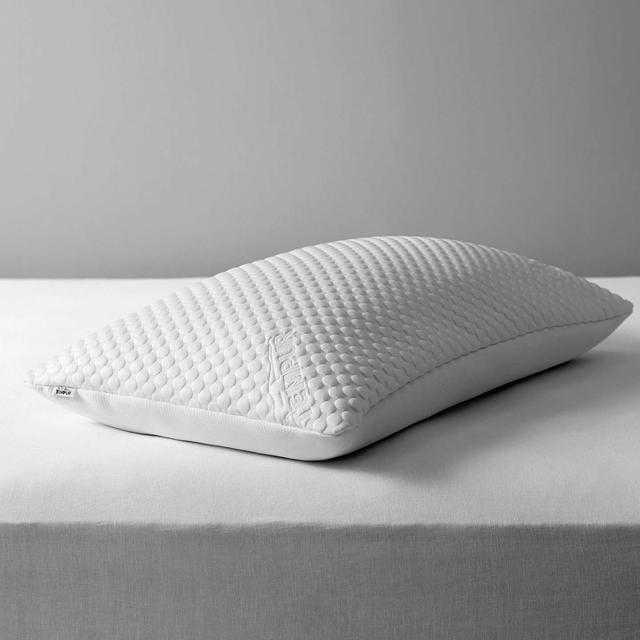pillow: (26, 232, 634, 462)
